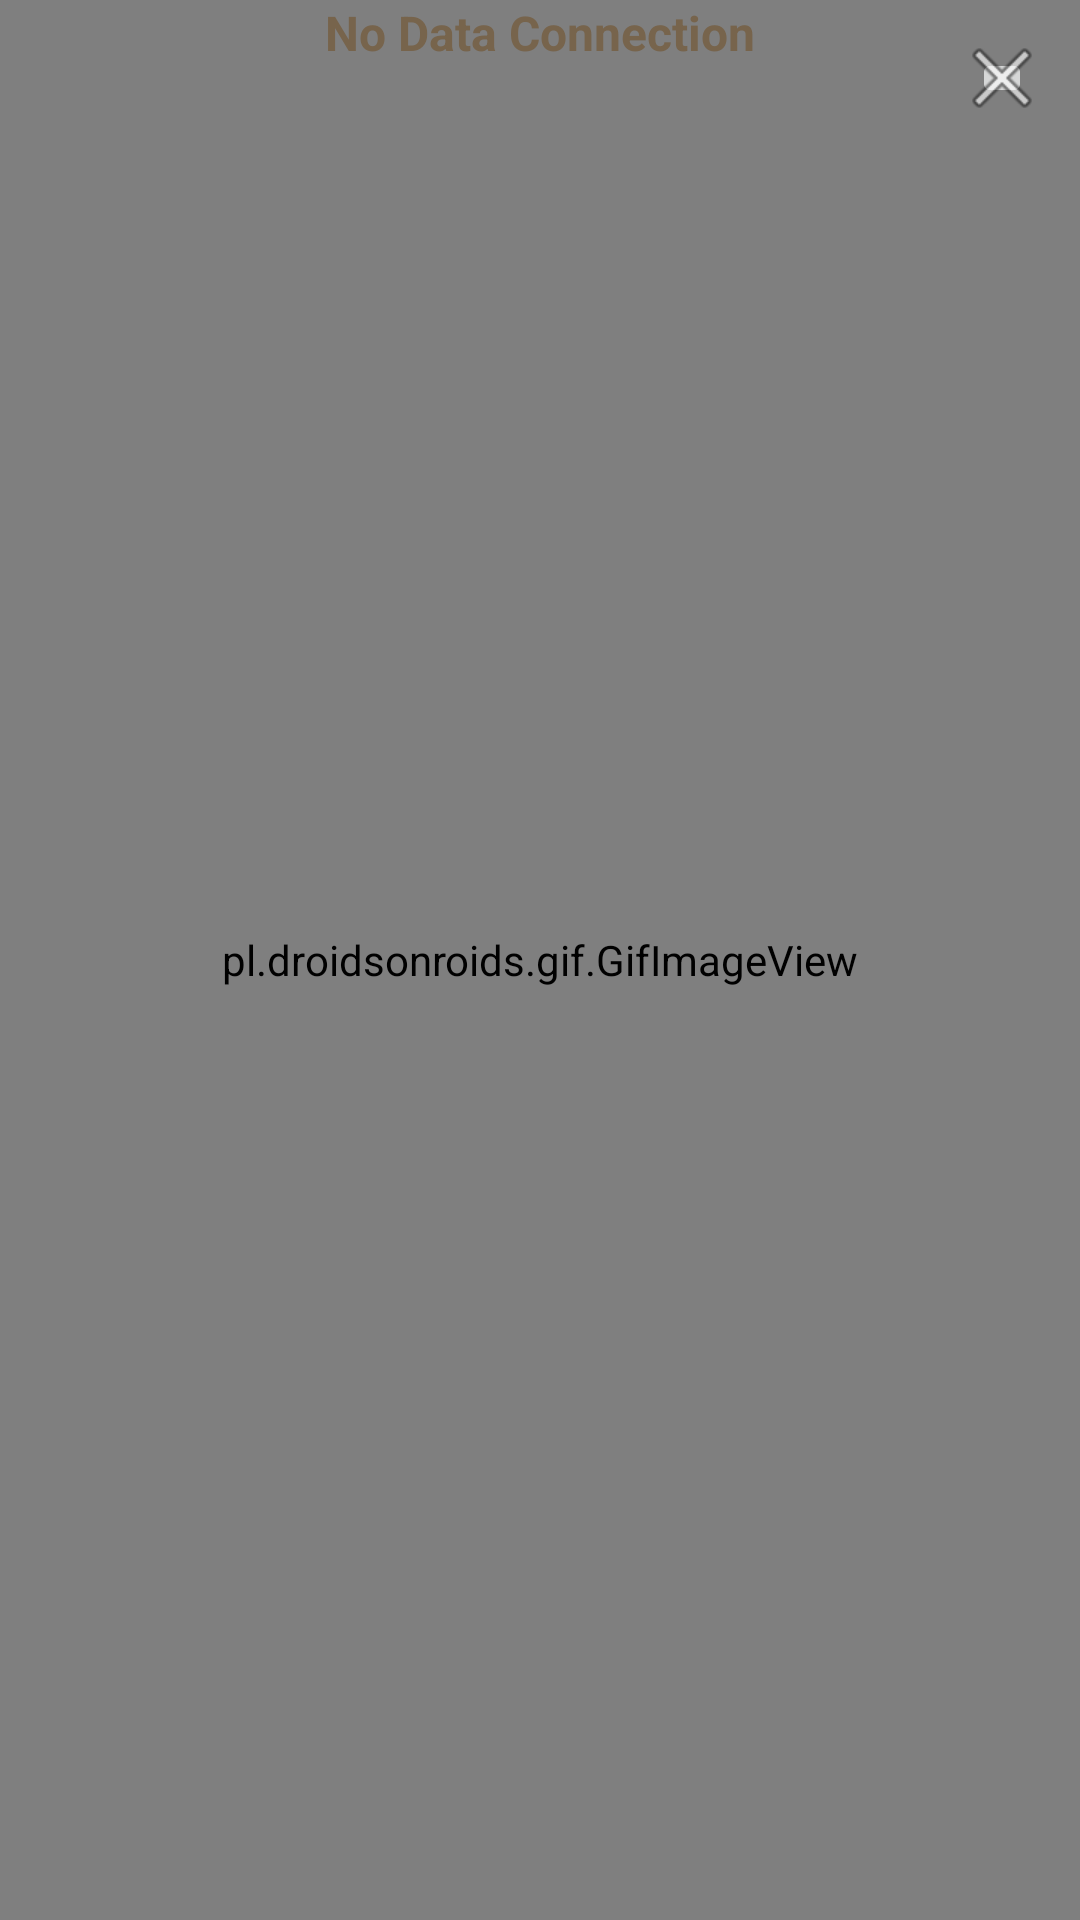

Locate icon controls on the screen. Image size 1080×1920, boxes as (x1, y1, x2, y2).
close clear cancel: (972, 48, 1032, 108)
